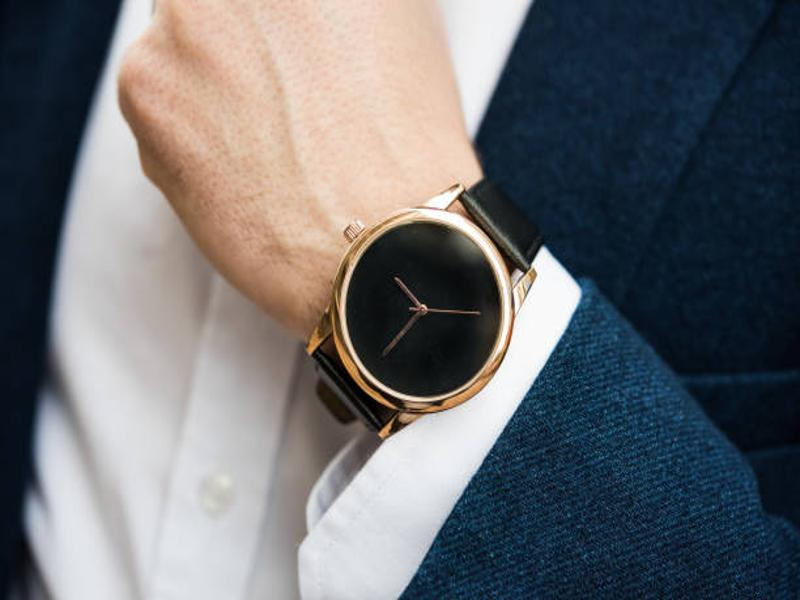watch: (304, 185, 534, 440)
